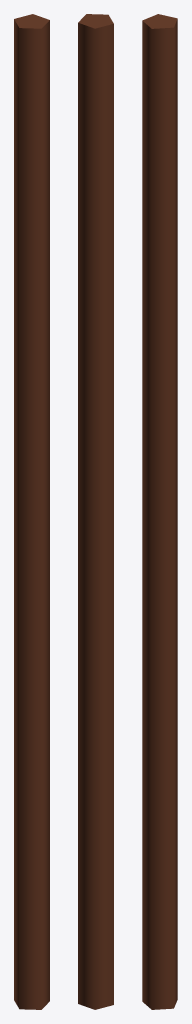
File: weap_minotaur_axe_shaft.dae
The picture shows the model from 3 angles, left to right: view 1: azimuth 30°, elevation 25°; view 2: azimuth 210°, elevation 25°; view 3: azimuth 330°, elevation 25°; orthographic projection.
Visible parts, largest first — view 1: Spear; view 2: Spear; view 3: Spear.
Part boxes in pixels (x1,y1,x2,y2): Spear: (14, 14, 49, 1009); Spear: (78, 14, 113, 1009); Spear: (142, 14, 177, 1009).
Bounding box in the file's own units: 0.1518 × 0.146 × 4.58.
